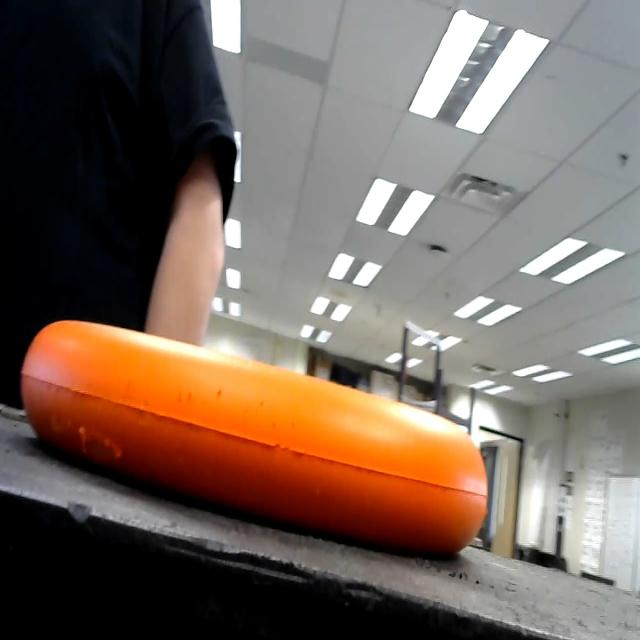note: (6, 287, 510, 598)
